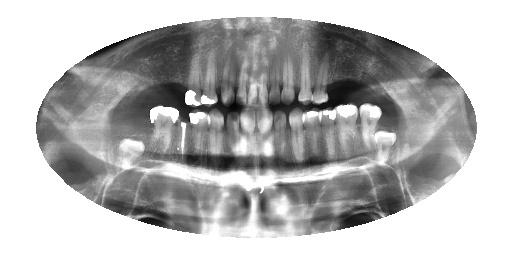i10decay: (223, 104, 245, 177)
i11healthy: (204, 100, 229, 177)
i12healthy: (184, 101, 212, 171)
i13healthy: (169, 100, 196, 172)
i14healthy: (145, 96, 182, 173)
i16healthy: (108, 131, 151, 175)
i1healthy: (371, 127, 399, 173)
i2healthy: (356, 97, 385, 157)
i3healthy: (331, 99, 363, 165)
i4healthy: (316, 101, 339, 163)
i5healthy: (298, 103, 325, 164)
i6healthy: (287, 102, 307, 164)
i7healthy: (270, 103, 293, 176)
i8decay: (254, 99, 278, 175)
i9decay: (236, 102, 262, 173)
u10healthy: (233, 50, 252, 109)
u11decay: (219, 45, 238, 111)
u12healthy: (199, 47, 222, 114)
u13healthy: (179, 38, 205, 112)
u4decay: (310, 50, 333, 114)
u5decay: (294, 45, 315, 110)
u6healthy: (279, 46, 296, 109)
u7healthy: (266, 45, 284, 109)
u8decay: (257, 47, 271, 111)
u9decay: (247, 47, 260, 109)
